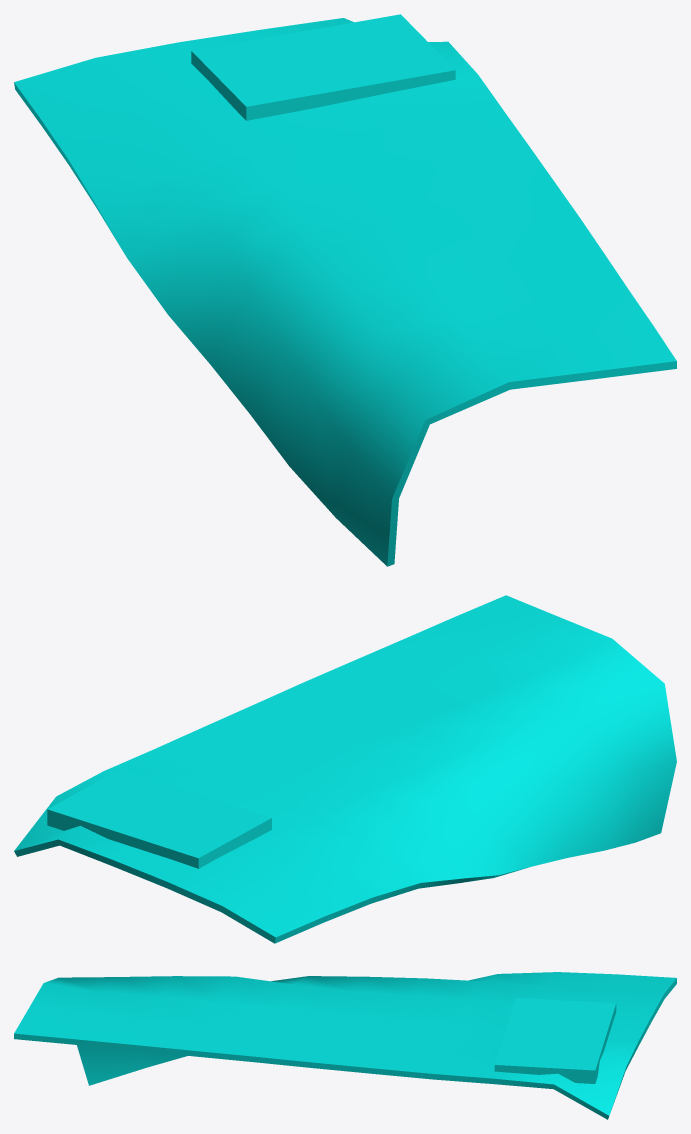
The model's file is bed.fbx.
The picture shows the model from 3 angles, top to bottom: view 1: azimuth 30°, elevation 25°; view 2: azimuth 150°, elevation 25°; view 3: azimuth 270°, elevation 25°; orthographic projection. The views are drawn at different scales.
Parts seen in each view (by area): view 1: bed1; view 2: bed1; view 3: bed1.
Boxes of the visible parts, <box> form: bed1: <box>14,14,676,566</box>; bed1: <box>14,595,676,943</box>; bed1: <box>14,972,676,1119</box>.
Bounding box in the file's own units: 0.5568 × 0.2553 × 1.08.
